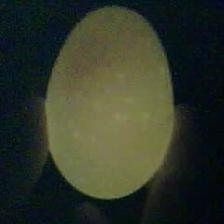infertile: (45, 4, 176, 200)
